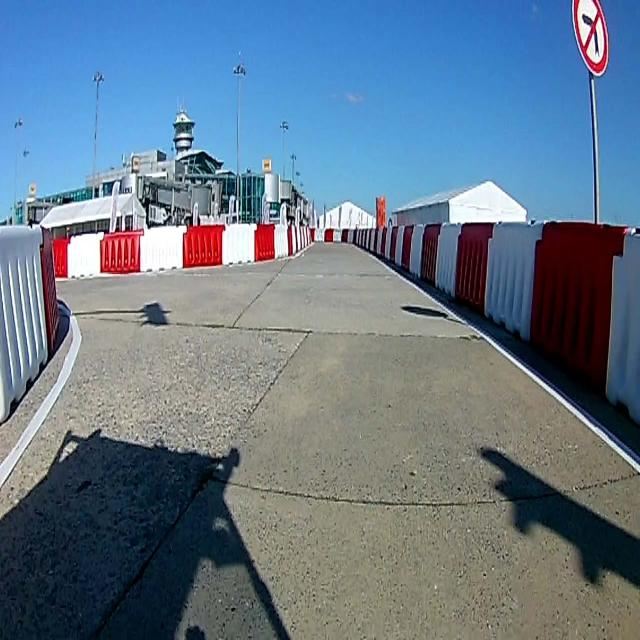soladonulmez: (571, 1, 611, 78)
